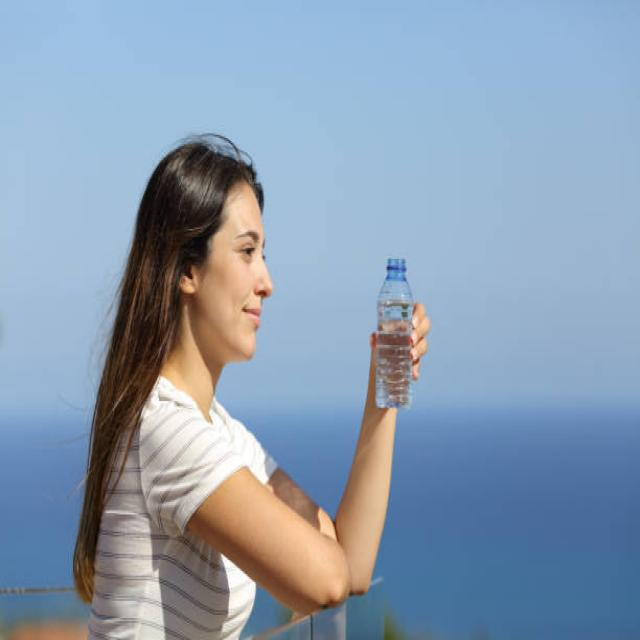blue_bottle: (373, 248, 420, 417)
